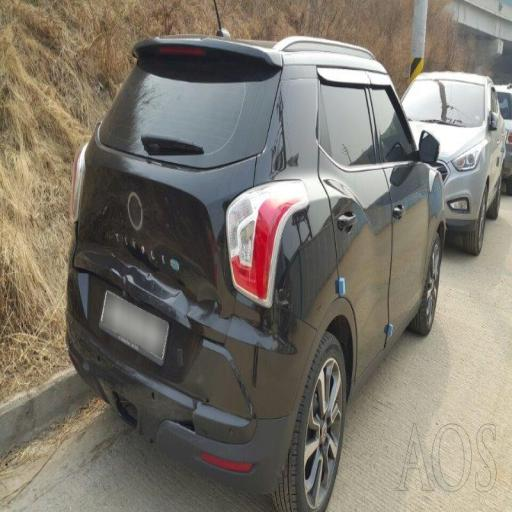dent: (78, 171, 304, 418)
